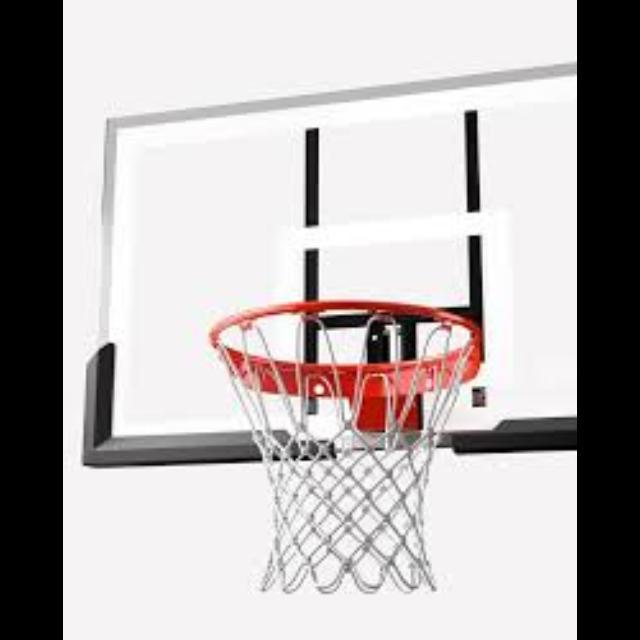rim: (212, 298, 478, 594)
